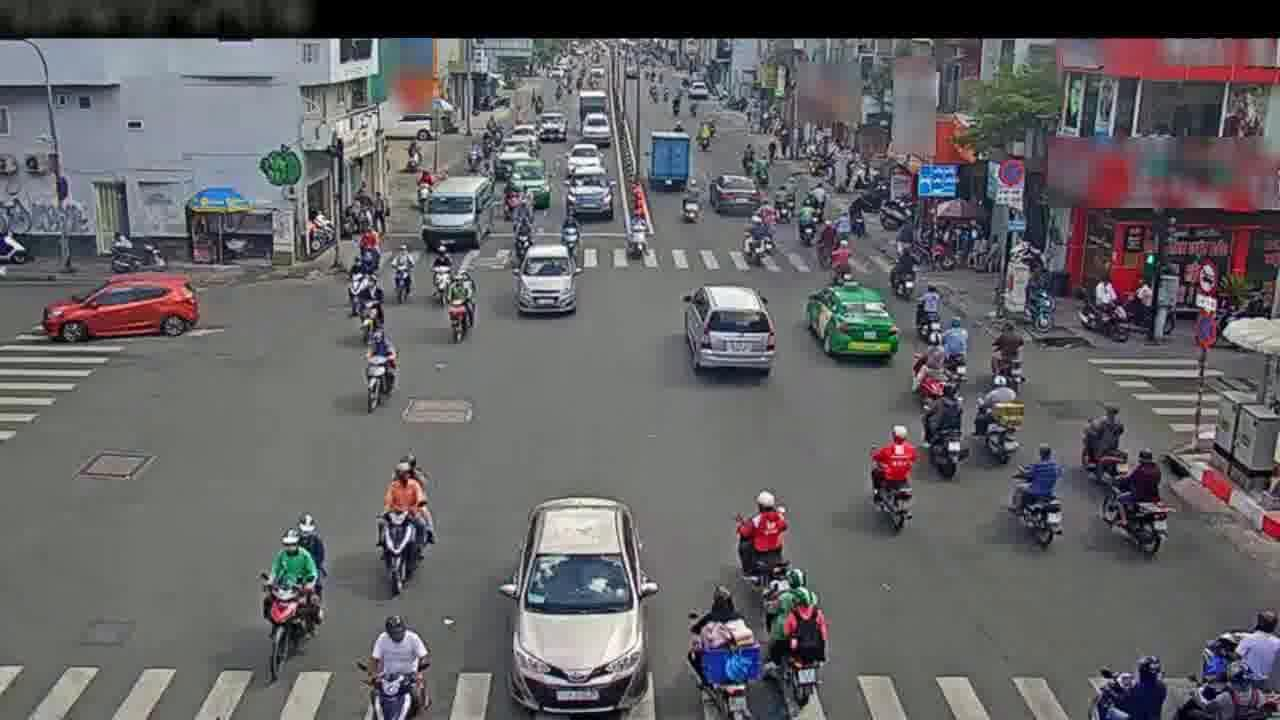14: (427, 173, 487, 252)
8: (568, 166, 613, 222), (645, 131, 691, 185)
container: (511, 498, 652, 712), (50, 268, 199, 345), (691, 284, 771, 380), (805, 283, 900, 359), (521, 241, 574, 324), (568, 166, 613, 222), (709, 172, 754, 215)
motorbike: (685, 592, 763, 717), (1191, 609, 1276, 720), (262, 520, 322, 666), (358, 611, 433, 719), (731, 493, 796, 615), (769, 575, 825, 711), (375, 457, 430, 594), (1090, 644, 1178, 720), (1102, 453, 1167, 555), (1010, 444, 1062, 548), (868, 428, 914, 536), (924, 381, 963, 484), (980, 377, 1021, 469), (1083, 401, 1124, 490), (363, 318, 398, 415), (988, 317, 1024, 394), (444, 264, 476, 349), (347, 253, 378, 332), (912, 332, 947, 395), (429, 232, 459, 298), (391, 238, 417, 312), (828, 231, 857, 292), (942, 315, 971, 374), (915, 286, 942, 347), (888, 242, 919, 295), (624, 205, 650, 268), (1, 213, 24, 275), (560, 203, 581, 266), (512, 204, 533, 264), (742, 218, 767, 265), (796, 197, 817, 250), (774, 180, 797, 228), (680, 182, 701, 232), (358, 227, 380, 273)
